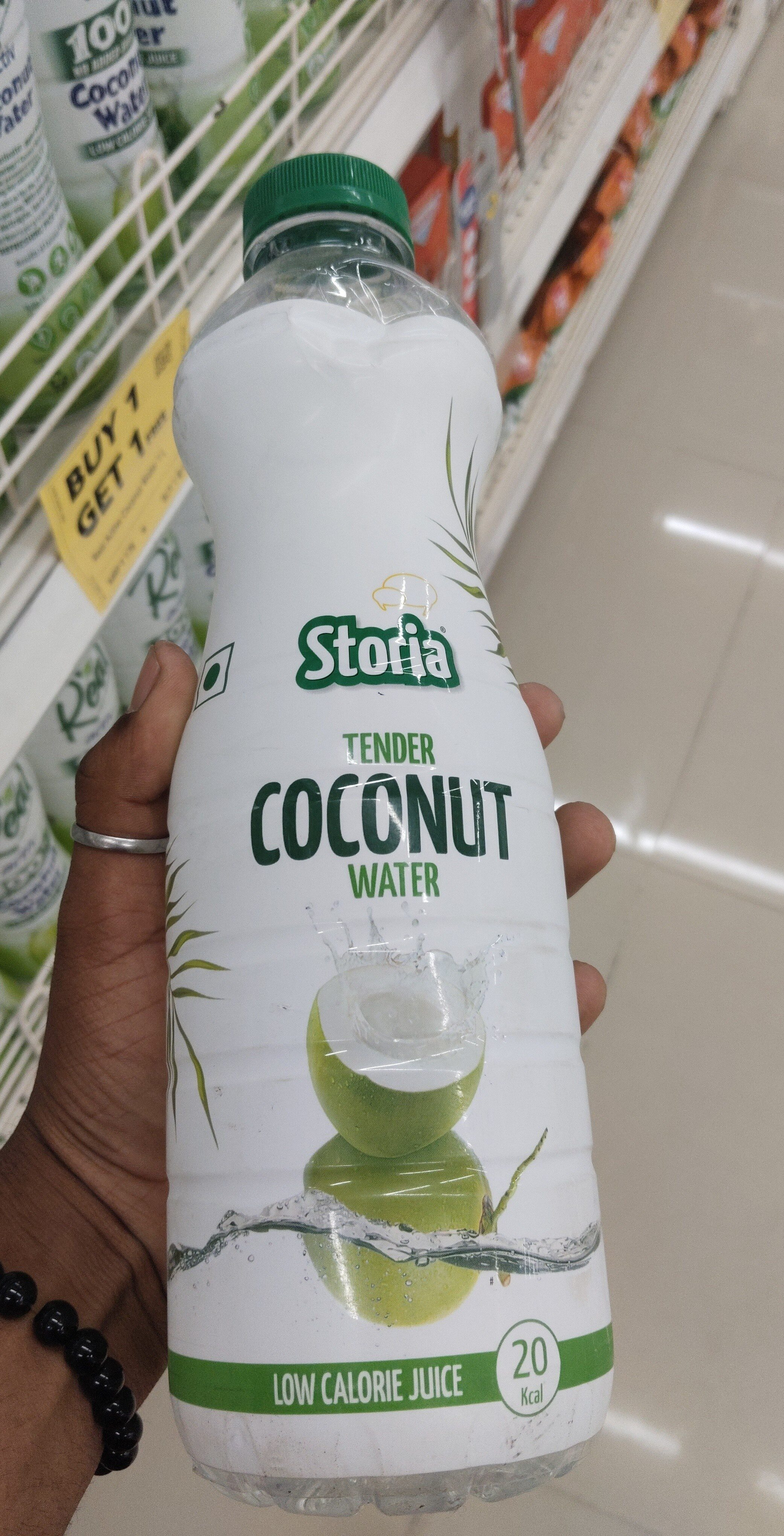Storia 100% Tender Coconut Water: (71, 138, 713, 1398)
